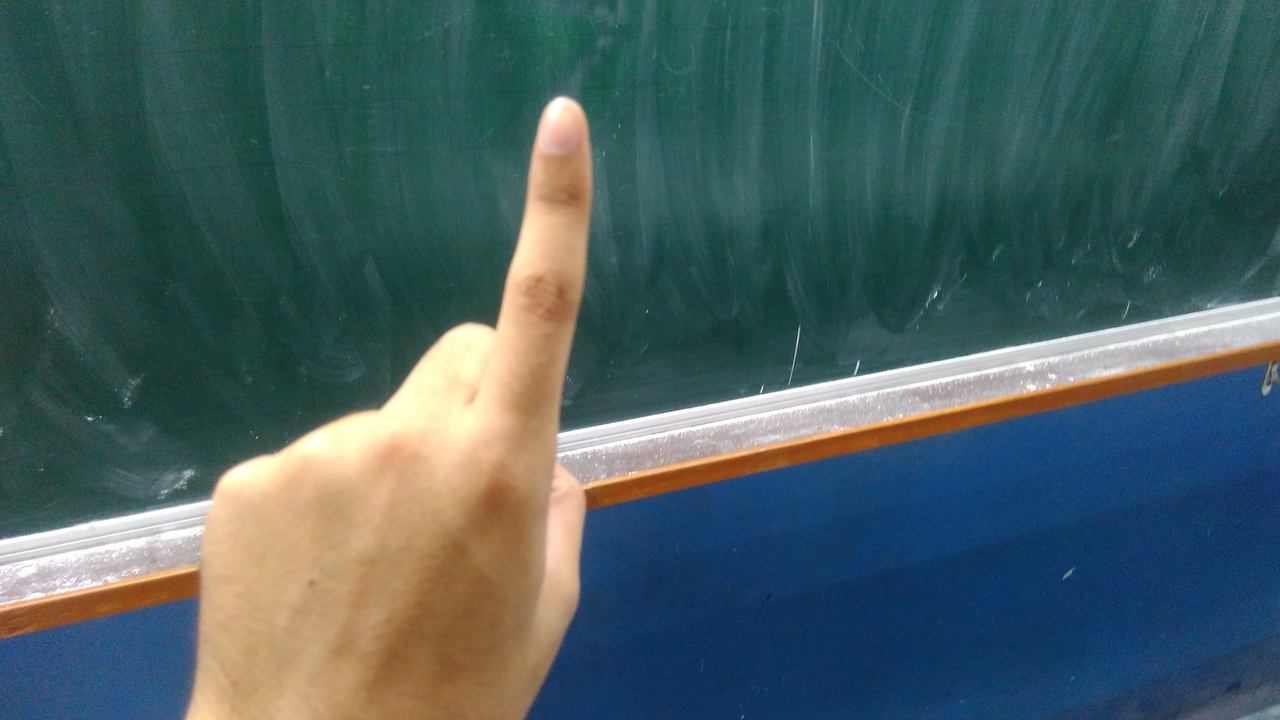fingertip: (530, 92, 588, 156)
